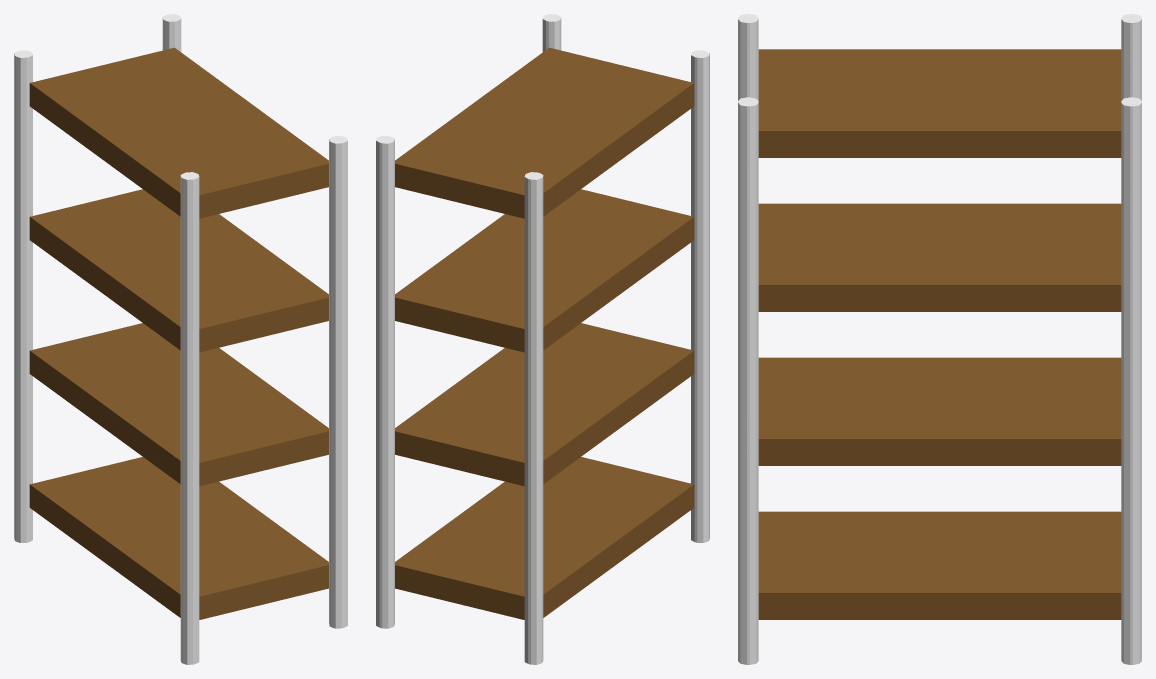
The model's file is Shelf_2.fbx.
3 views of the same model, side by side, from view 1: azimuth 30°, elevation 25°; view 2: azimuth 150°, elevation 25°; view 3: azimuth 270°, elevation 25° (orthographic). The views are drawn at different scales.
Visible parts, largest first — view 1: Shelf_2; view 2: Shelf_2; view 3: Shelf_2.
Part boxes in pixels (x1=…): Shelf_2: x1=14, y1=14, x2=347, y2=664; Shelf_2: x1=376, y1=14, x2=709, y2=664; Shelf_2: x1=738, y1=14, x2=1141, y2=664.
Bounding box in the file's own units: 0.3893 × 1.1 × 0.7187.
